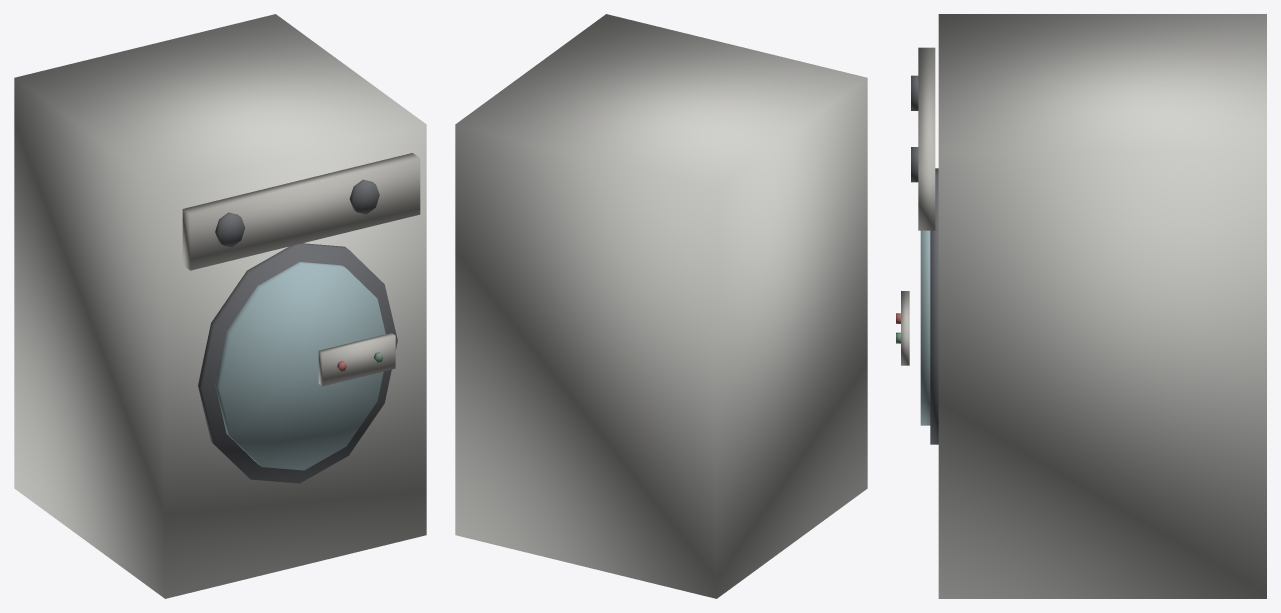
File: domestic_washer__tall.glb
The picture shows the model from 3 angles, left to right: view 1: azimuth 30°, elevation 25°; view 2: azimuth 150°, elevation 25°; view 3: azimuth 270°, elevation 25°; orthographic projection. The views are drawn at different scales.
Visible parts, largest first — view 1: world; view 2: world; view 3: world.
Boxes of the visible parts, x1,y1,x2,y2 form: world: (14, 14, 426, 598); world: (455, 14, 867, 598); world: (896, 14, 1266, 598).
Size of the model in its own units: 0.68 by 1.02 by 0.7685.
